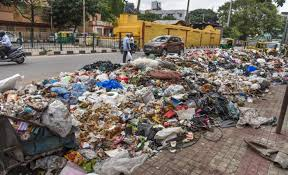garbage: (2, 79, 158, 175), (88, 62, 246, 133), (185, 52, 271, 97)
